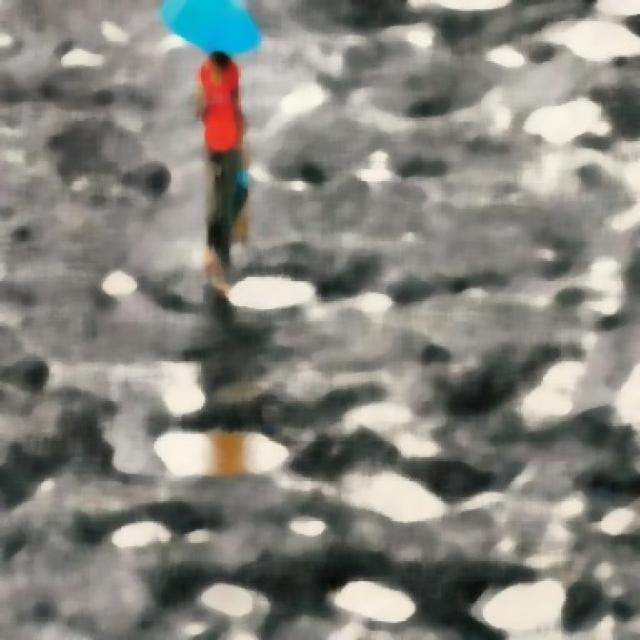Pothole: (147, 384, 278, 504), (320, 428, 438, 537), (219, 236, 319, 318), (312, 570, 416, 628), (462, 592, 584, 639), (198, 542, 264, 623)
